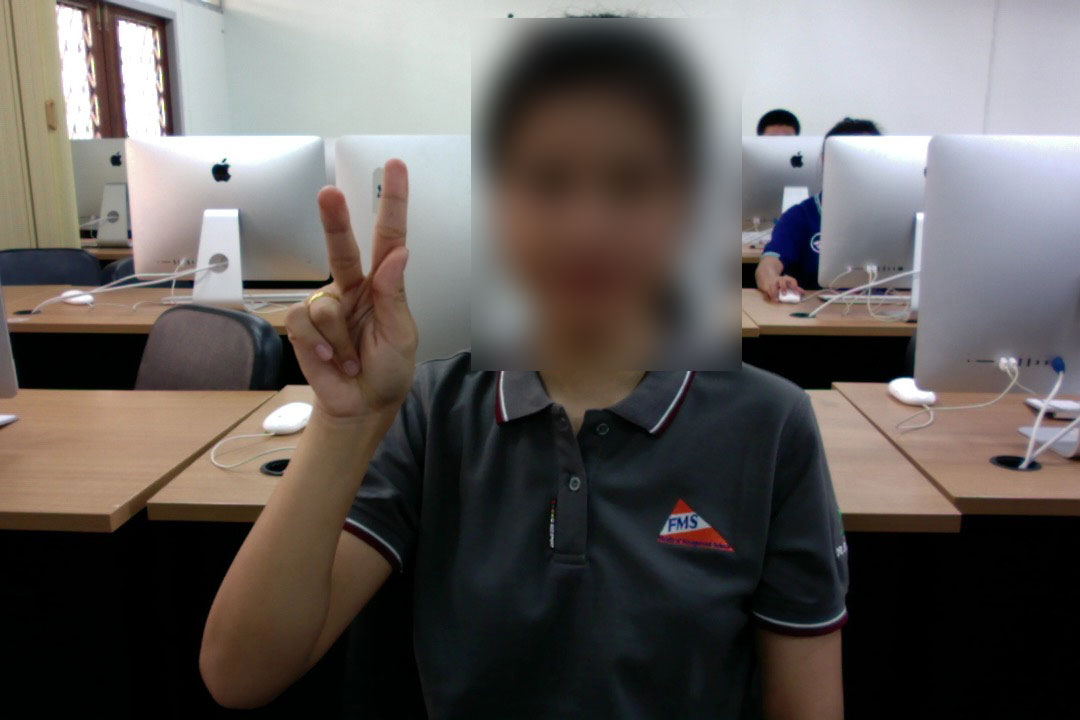ko: (282, 152, 430, 422)
